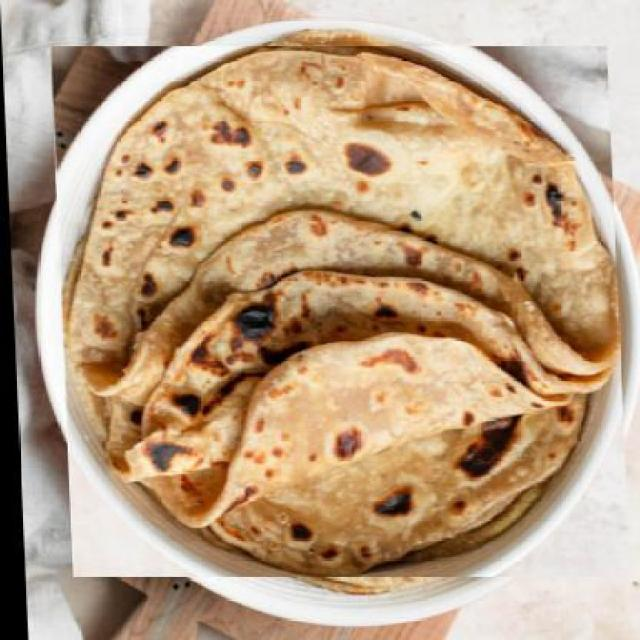chapati: (56, 40, 621, 586)
